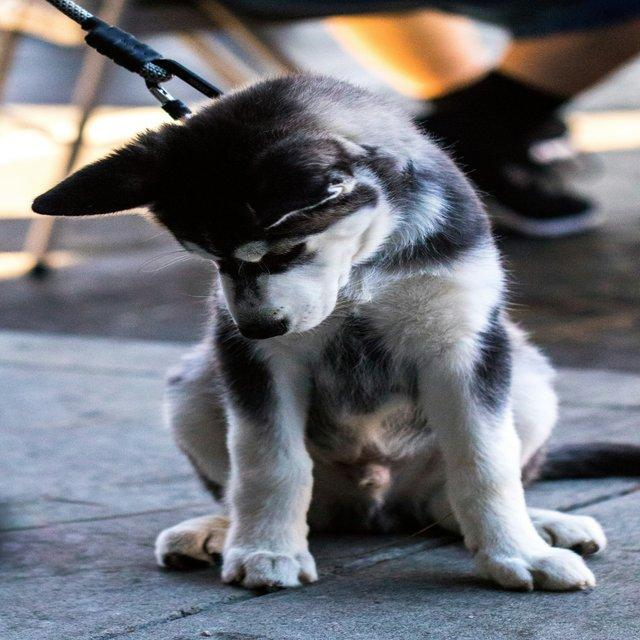husky: (30, 70, 625, 593)
